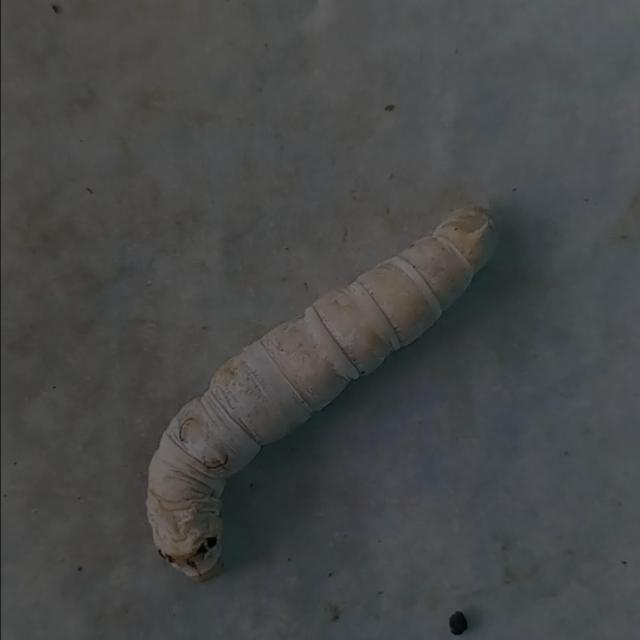Grasserie: (126, 193, 498, 585)
